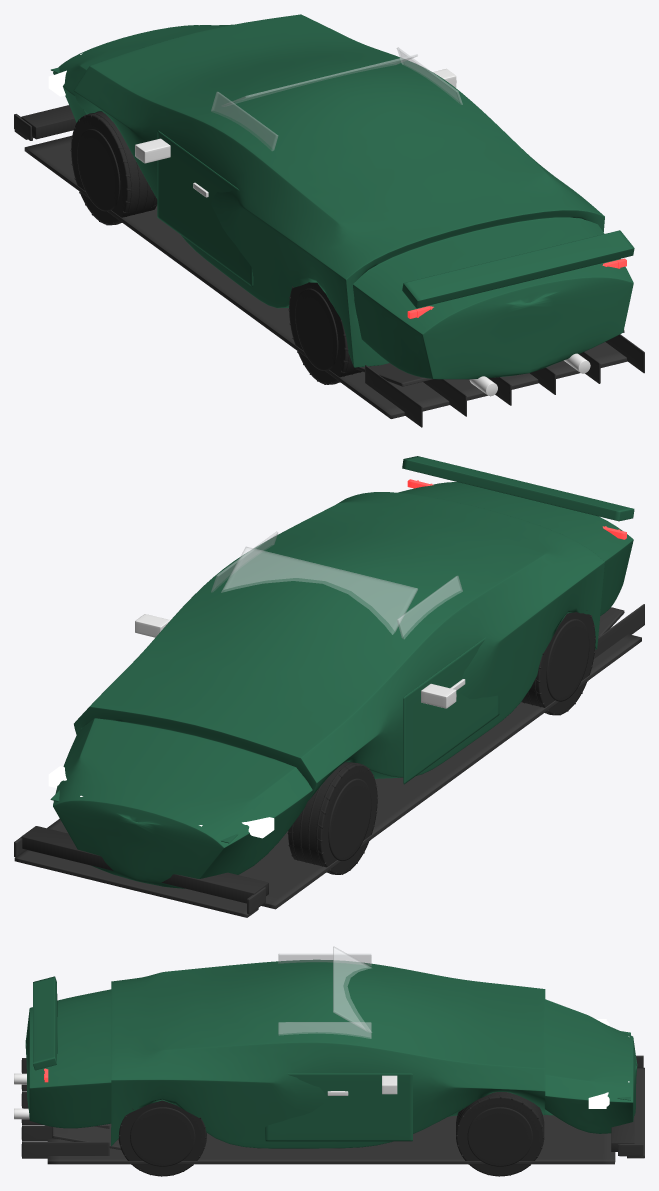
Rendered from vehicle.opt.glb.
3 views of the same model, one above another, from view 1: azimuth 30°, elevation 25°; view 2: azimuth 150°, elevation 25°; view 3: azimuth 270°, elevation 25° (orthographic). The views are drawn at different scales.
Visible parts, largest first — view 1: BODY_MainShell, UNDERBODY_FlatFloor, AERO_Vantage_Ducktail, WHEEL_FL_Tire, BODY_Door_FL, WHEEL_RL_Tire, GLASS_Greenhouse, AERO_Vantage_ChinSpoiler, JEWELRY_Hardware, JEWELRY_Vantage_TwinExhaust; view 2: BODY_MainShell, UNDERBODY_FlatFloor, GLASS_Greenhouse, WHEEL_FL_Tire, BODY_Door_FL, WHEEL_RL_Tire, AERO_Vantage_Ducktail, AERO_FrontSplitter, AERO_Vantage_ChinSpoiler, JEWELRY_Hardware, LIGHTING_Headlamps; view 3: BODY_MainShell, UNDERBODY_FlatFloor, BODY_Door_FR, WHEEL_FR_Tire, WHEEL_RR_Tire, GLASS_Greenhouse, AERO_Vantage_Ducktail, AERO_FrontSplitter, AERO_Vantage_ChinSpoiler, JEWELRY_Hardware, LIGHTING_Headlamps, JEWELRY_Vantage_TwinExhaust.
Part boxes in pixels (<box>): BODY_MainShell: <box>53,14,633,379</box>; UNDERBODY_FlatFloor: <box>24,135,644,427</box>; AERO_Vantage_Ducktail: <box>402,230,634,308</box>; WHEEL_FL_Tire: <box>70,111,157,225</box>; BODY_Door_FL: <box>157,130,253,286</box>; WHEEL_RL_Tire: <box>288,282,362,384</box>; GLASS_Greenhouse: <box>211,47,462,150</box>; AERO_Vantage_ChinSpoiler: <box>21,105,76,139</box>; JEWELRY_Hardware: <box>135,69,456,197</box>; JEWELRY_Vantage_TwinExhaust: <box>469,353,590,396</box>; BODY_MainShell: <box>53,482,633,888</box>; UNDERBODY_FlatFloor: <box>47,604,644,909</box>; GLASS_Greenhouse: <box>211,531,462,638</box>; WHEEL_FL_Tire: <box>287,762,378,874</box>; BODY_Door_FL: <box>403,637,499,784</box>; WHEEL_RL_Tire: <box>521,610,595,715</box>; AERO_Vantage_Ducktail: <box>402,456,634,521</box>; AERO_FrontSplitter: <box>14,837,265,917</box>; AERO_Vantage_ChinSpoiler: <box>21,826,268,903</box>; JEWELRY_Hardware: <box>135,614,465,708</box>; LIGHTING_Headlamps: <box>48,766,274,838</box>; BODY_MainShell: <box>25,959,637,1148</box>; UNDERBODY_FlatFloor: <box>21,1058,615,1164</box>; BODY_Door_FR: <box>265,1073,412,1141</box>; WHEEL_FR_Tire: <box>456,1092,544,1176</box>; WHEEL_RR_Tire: <box>118,1100,206,1176</box>; GLASS_Greenhouse: <box>278,946,371,1038</box>; AERO_Vantage_Ducktail: <box>33,976,57,1070</box>; AERO_FrontSplitter: <box>618,1055,644,1158</box>; AERO_Vantage_ChinSpoiler: <box>611,1114,634,1151</box>; JEWELRY_Hardware: <box>327,1075,397,1095</box>; LIGHTING_Headlamps: <box>588,1019,609,1108</box>; JEWELRY_Vantage_TwinExhaust: <box>14,1073,29,1119</box>.
Size of what is drawn, in the model's own units: 2.16 by 1.29 by 4.88.
